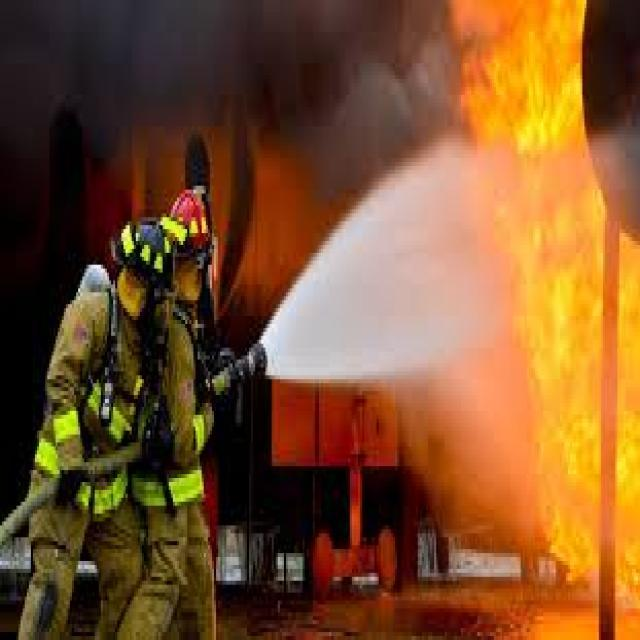Fire: (513, 181, 640, 618), (458, 0, 602, 163)
Smoke: (6, 0, 463, 177)
